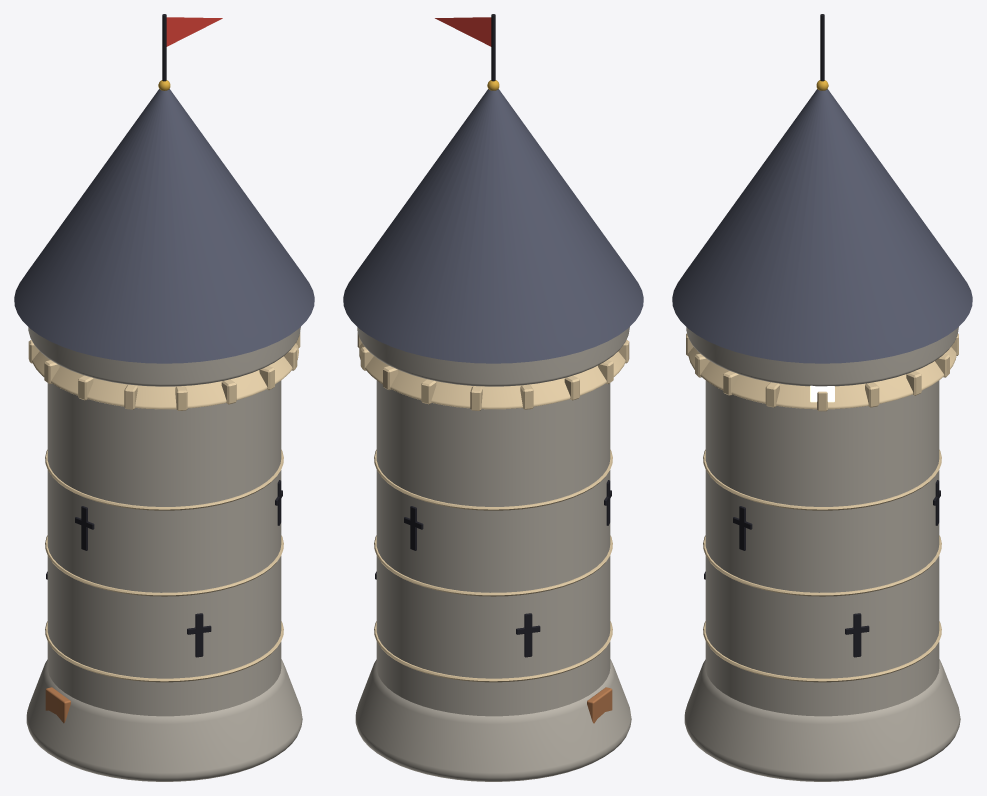
The model's file is castle_tower.glb.
3 views of the same model, side by side, from view 1: azimuth 30°, elevation 25°; view 2: azimuth 150°, elevation 25°; view 3: azimuth 270°, elevation 25° (orthographic).
Visible parts, largest first — view 1: castle_tower; view 2: castle_tower; view 3: castle_tower.
Part boxes in pixels (<box>): castle_tower: <box>14,14,314,781</box>; castle_tower: <box>343,14,643,781</box>; castle_tower: <box>672,14,972,781</box>.
Size of the model in its own units: 10.79 by 28.2 by 10.79.
Materials: 1 (1 with a texture image).
